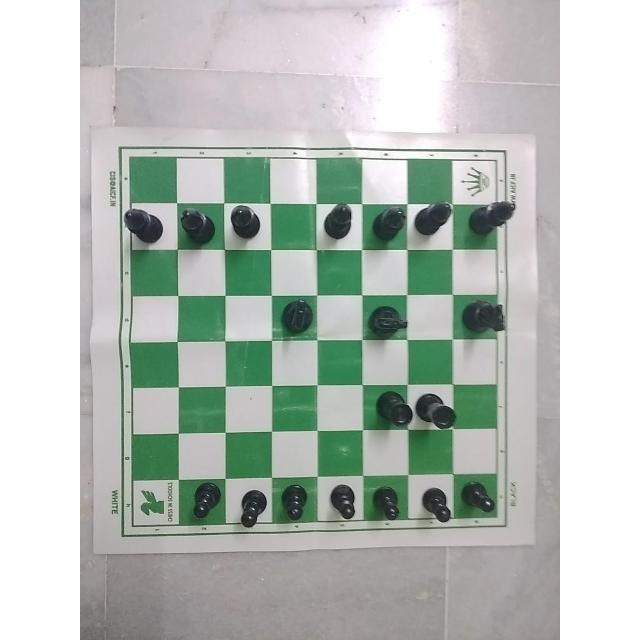black-bishop: (470, 192, 520, 242), (117, 201, 164, 249), (410, 195, 456, 243), (178, 199, 218, 249), (370, 202, 408, 250), (318, 201, 357, 247), (229, 202, 269, 242)
black-knight: (271, 291, 323, 345), (359, 296, 411, 340), (460, 298, 512, 341)
black-pawn: (230, 486, 271, 538), (459, 477, 503, 525), (184, 473, 224, 523), (368, 477, 406, 527), (322, 479, 362, 525), (419, 480, 455, 530), (277, 477, 315, 524)
black-rook: (419, 384, 463, 430), (376, 383, 414, 431)
